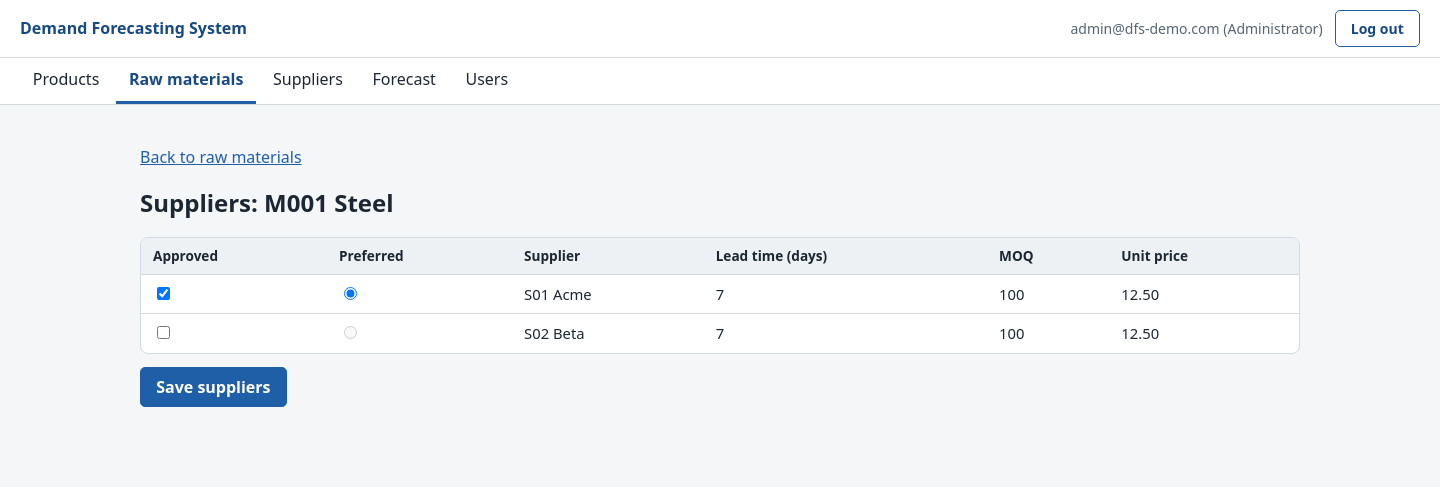
Scenario: suppliers › links suppliers to a material with one preferred
Expected: the checkbox named "Approve S01" is checked, [157,287,170,300]
Expected: the radio button named "Prefer S02" is disabled, [344,326,357,339]
Click the checkbox named "Approve S02" at (164, 333), box [157,326,170,339]
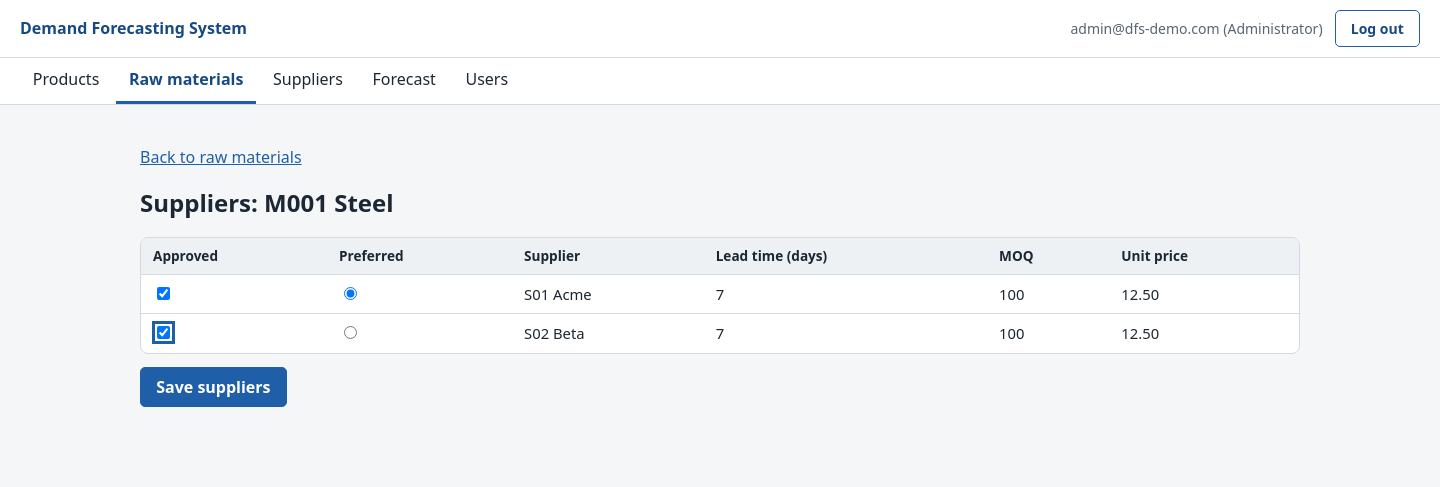
Click the radio button named "Prefer S02" at (351, 333), box [344,326,357,339]
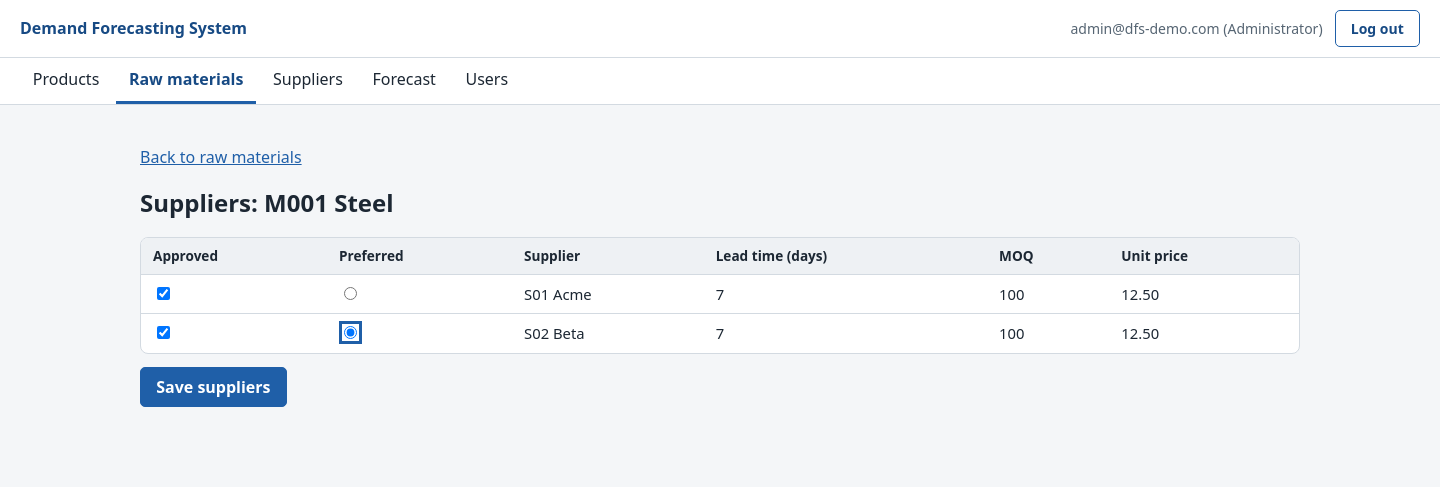
Click the button "Save suppliers" at (213, 387), box [140,367,287,408]
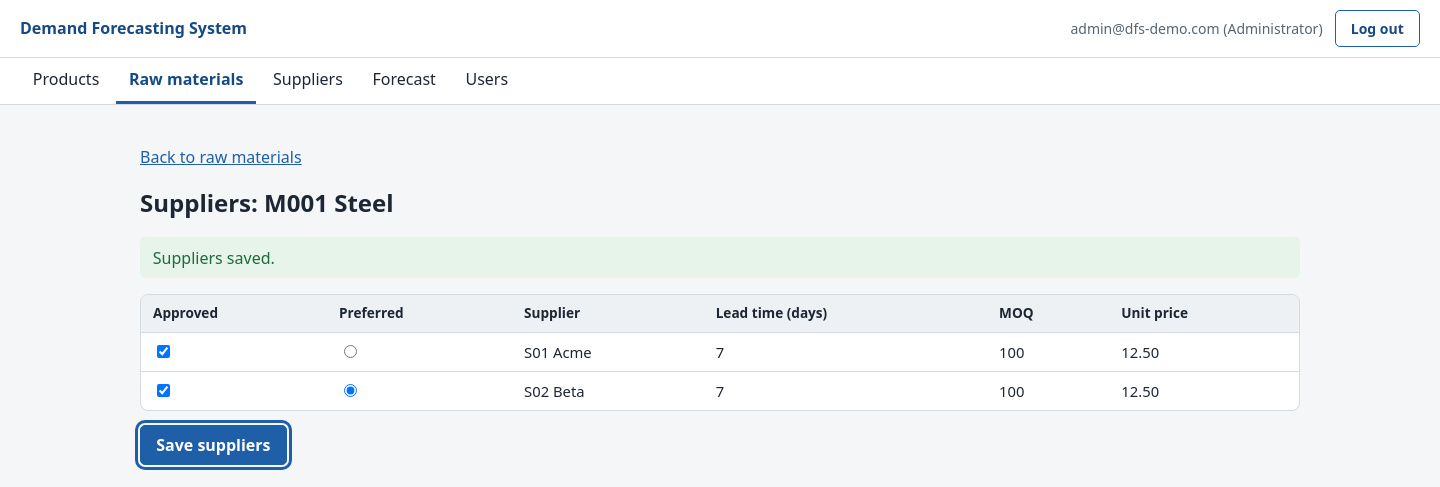
Expected: the message shows "Suppliers saved", [153,246,275,268]
